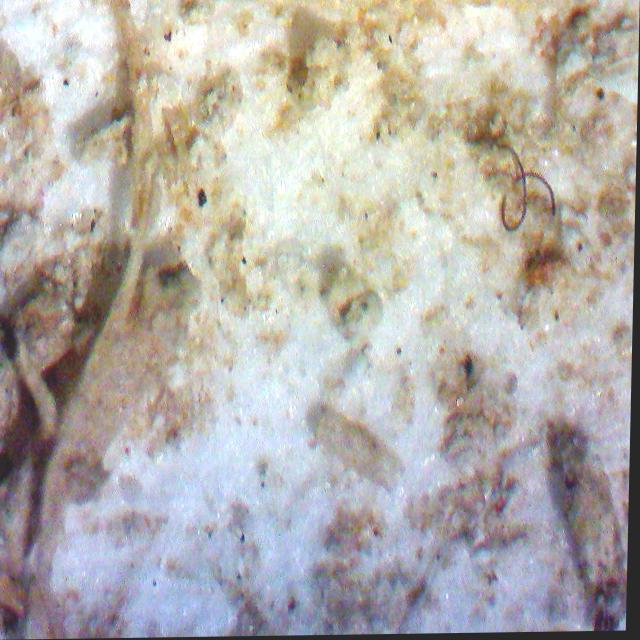microplastic: (484, 144, 557, 234)
